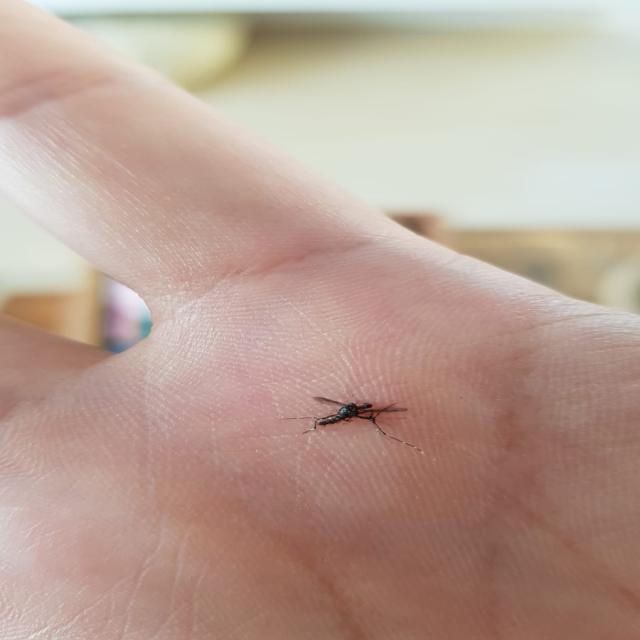albopictus: (274, 386, 424, 454)
